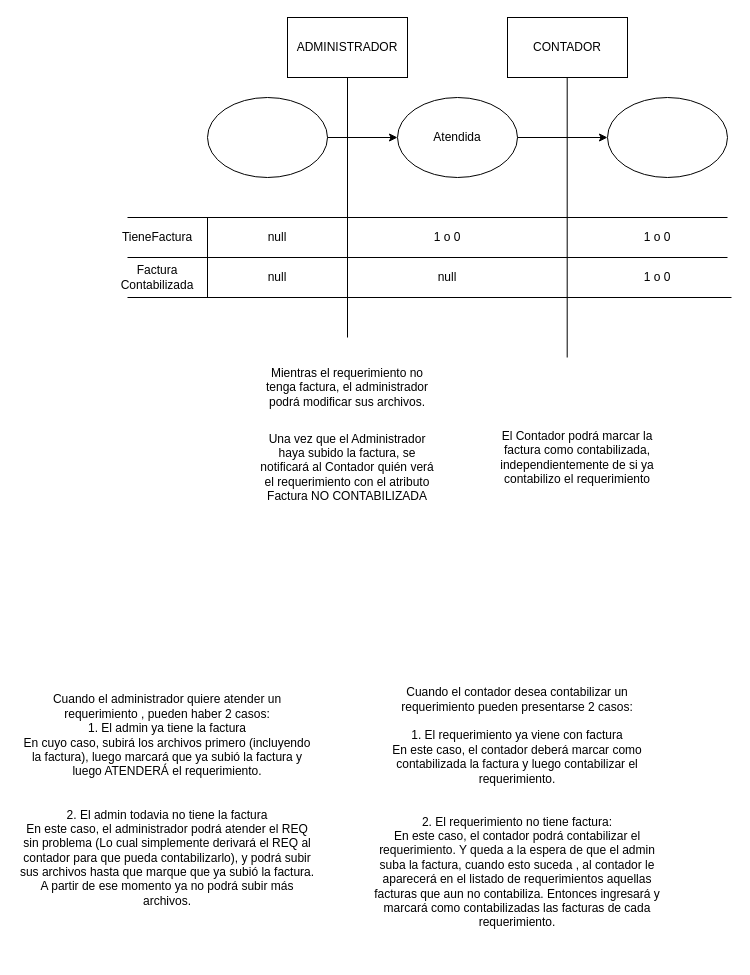
Image size: 750x975. Some labels were removed from this diagram. Each missing label, with the centre of its shape:
Aprobada: [267,137]
Contabilizada: [667,137]
